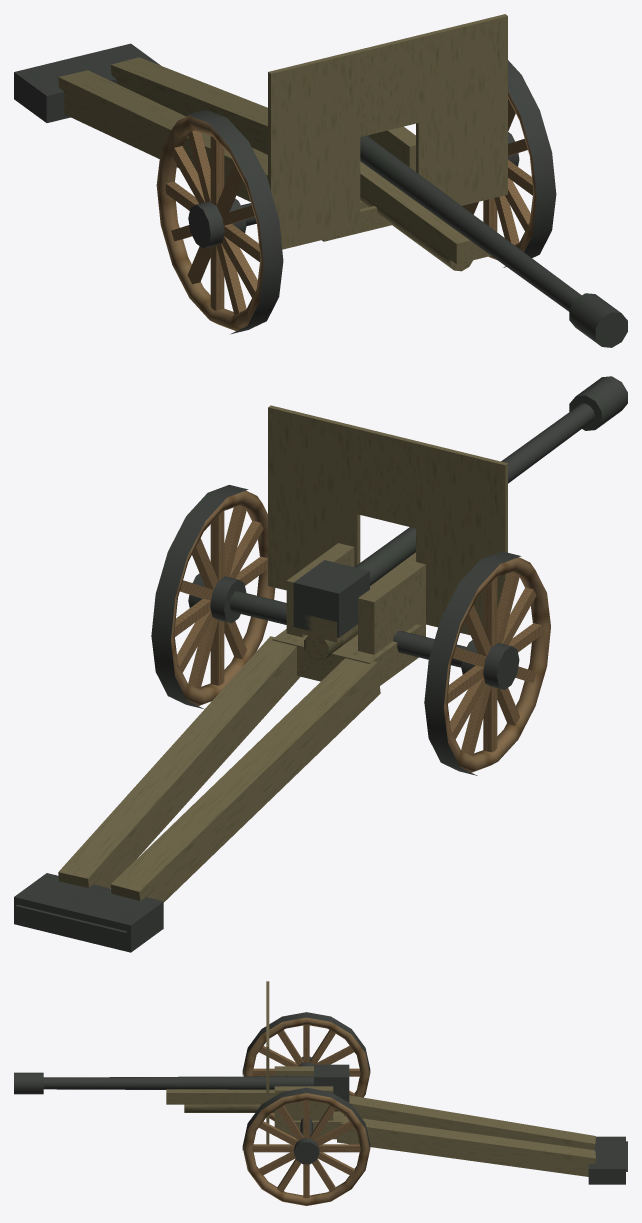
File: artillery.glb
3 views of the same model, one above another, from view 1: azimuth 30°, elevation 25°; view 2: azimuth 150°, elevation 25°; view 3: azimuth 270°, elevation 25° (orthographic). The views are drawn at different scales.
Visible parts, largest first — view 1: shield, wheels_right, barrel, trail_right, wheels_left, trail_left, carriage; view 2: shield, trail_right, trail_left, wheels_right, wheels_left, barrel, carriage; view 3: wheels_left, trail_left, barrel, trail_right, wheels_right, carriage, shield.
Part boxes in pixels (x1,y1,x2,y2): shield: (268, 14, 507, 249); wheels_right: (156, 110, 283, 334); barrel: (360, 135, 627, 347); trail_right: (14, 57, 267, 201); wheels_left: (462, 60, 556, 267); trail_left: (66, 43, 267, 154); carriage: (241, 126, 415, 241); shield: (268, 405, 507, 635); trail_right: (66, 658, 380, 952); trail_left: (14, 636, 300, 939); wheels_right: (424, 551, 550, 775); wheels_left: (151, 485, 275, 709); barrel: (293, 376, 627, 661); carriage: (229, 543, 466, 685); wheels_left: (242, 1087, 370, 1205); trail_left: (337, 1116, 627, 1184); barrel: (14, 1064, 349, 1112); trail_right: (344, 1095, 627, 1155); wheels_right: (242, 1012, 370, 1121); carriage: (274, 1066, 343, 1139); shield: (266, 981, 269, 1144).
Bounding box in the file's own units: 1.9 × 1.6 × 5.77.
Materials: 3 (3 with a texture image).
